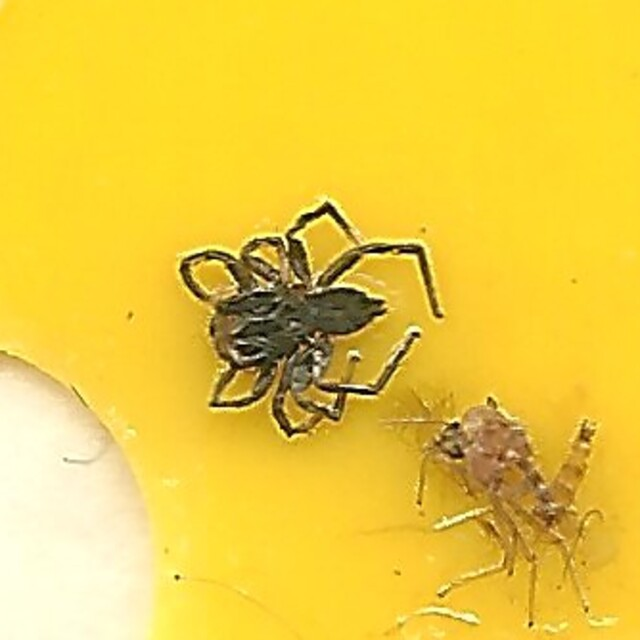Araneae: (192, 203, 448, 437)
